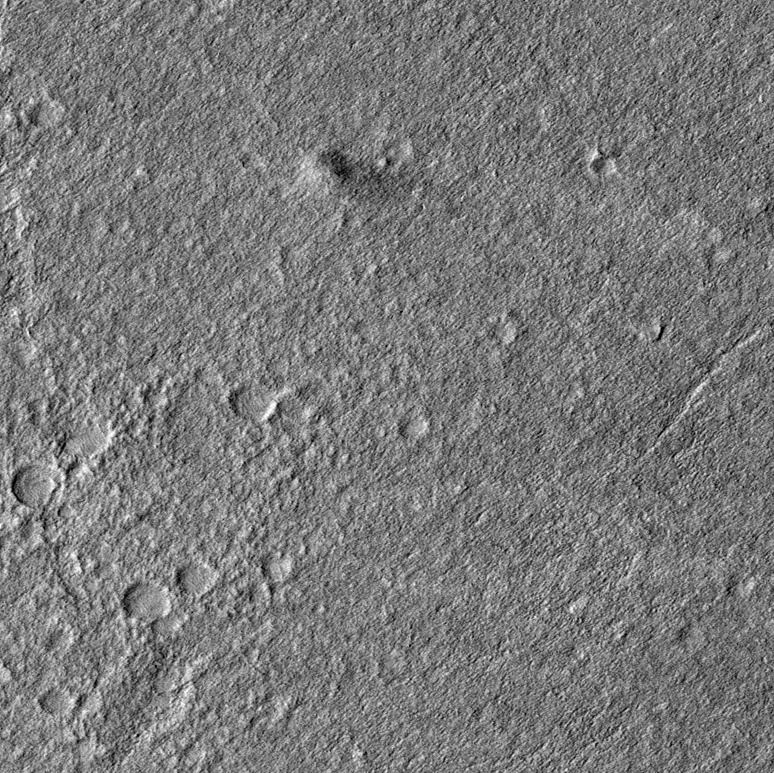dust_devil: (298, 147, 421, 205)
